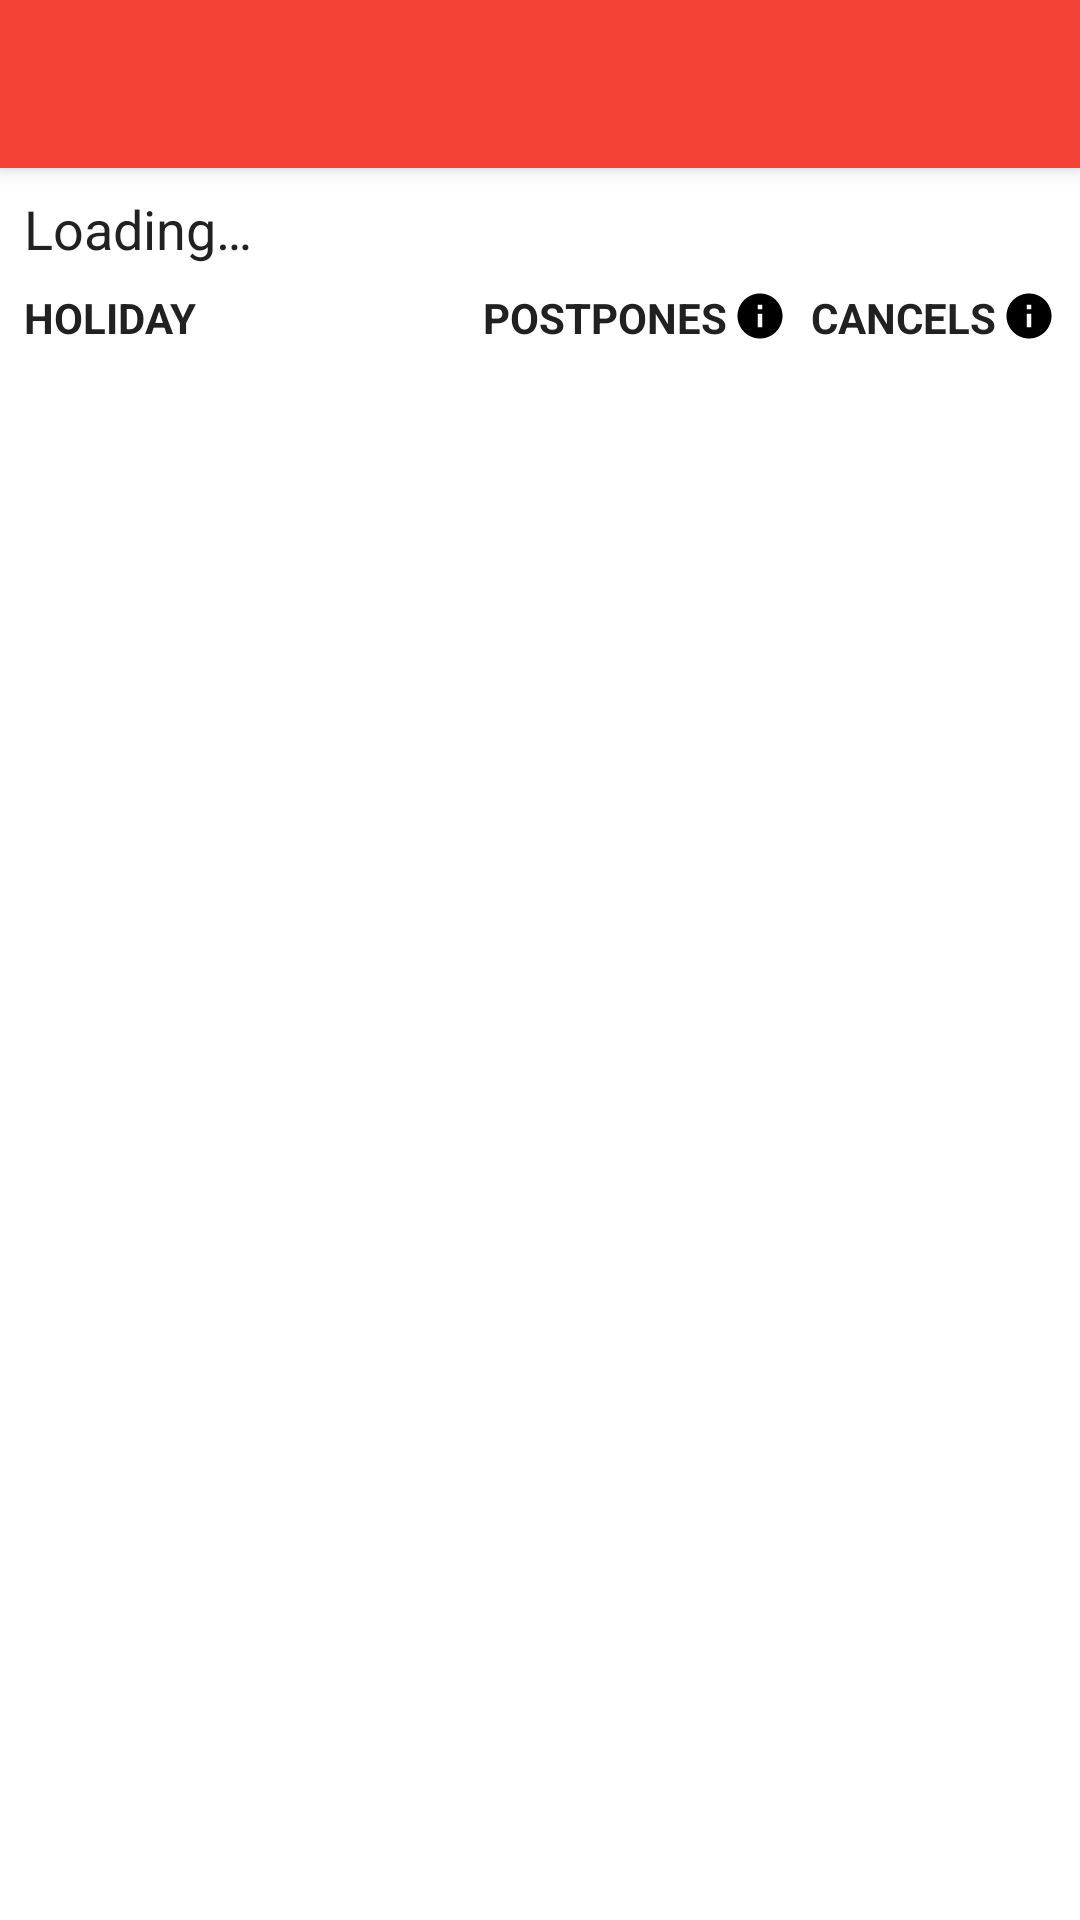

Icons on this 1080w x 1920h Android screen, each with its box as Rect(x1, y1, x2, y2):
info: Rect(737, 293, 783, 339), Rect(1006, 293, 1052, 339)
